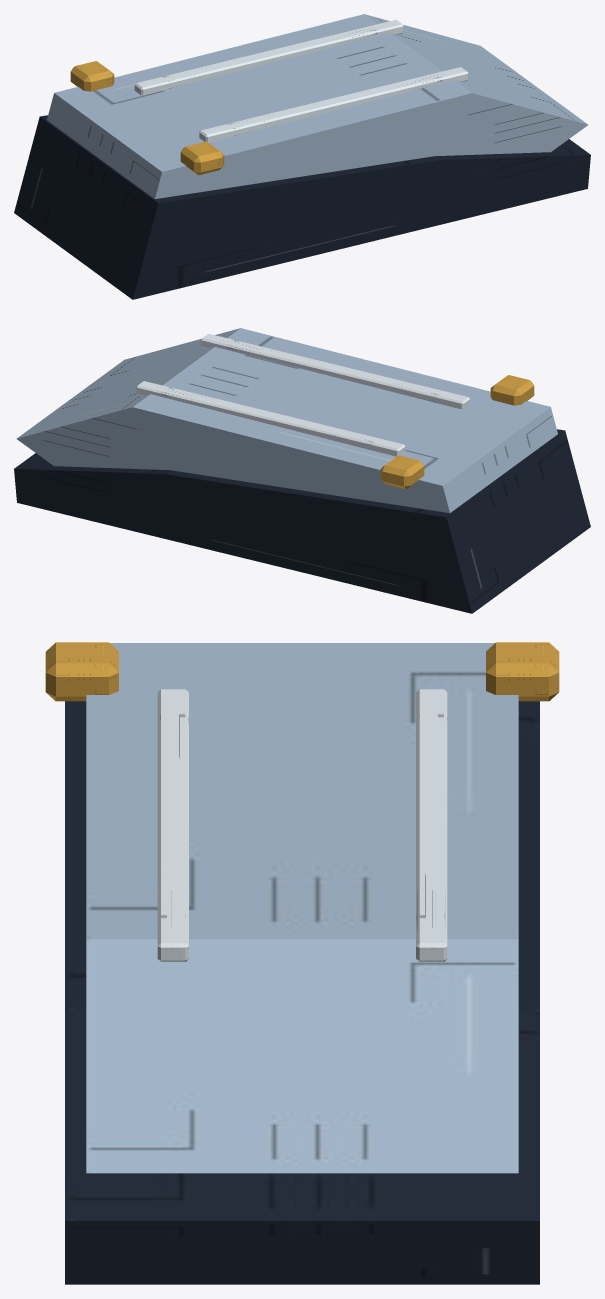
Rendered from quicksilver.glb.
3 views of the same model, one above another, from view 1: azimuth 30°, elevation 25°; view 2: azimuth 150°, elevation 25°; view 3: azimuth 270°, elevation 25° (orthographic). The views are drawn at different scales.
Parts seen in each view (by area): view 1: foot_L, foot_R; view 2: foot_L, foot_R; view 3: foot_L, foot_R.
Part boxes in pixels (left/top/right/bottom): foot_L: left=14, top=14, right=590, bottom=299; foot_R: left=180, top=141, right=224, bottom=175; foot_L: left=14, top=328, right=590, bottom=613; foot_R: left=490, top=375, right=534, bottom=405; foot_L: left=65, top=642, right=559, bottom=1284; foot_R: left=45, top=642, right=118, bottom=701.
Bounding box in the file's own units: 0.305 × 0.082 × 0.147.
Materials: 4 (4 with a texture image).
